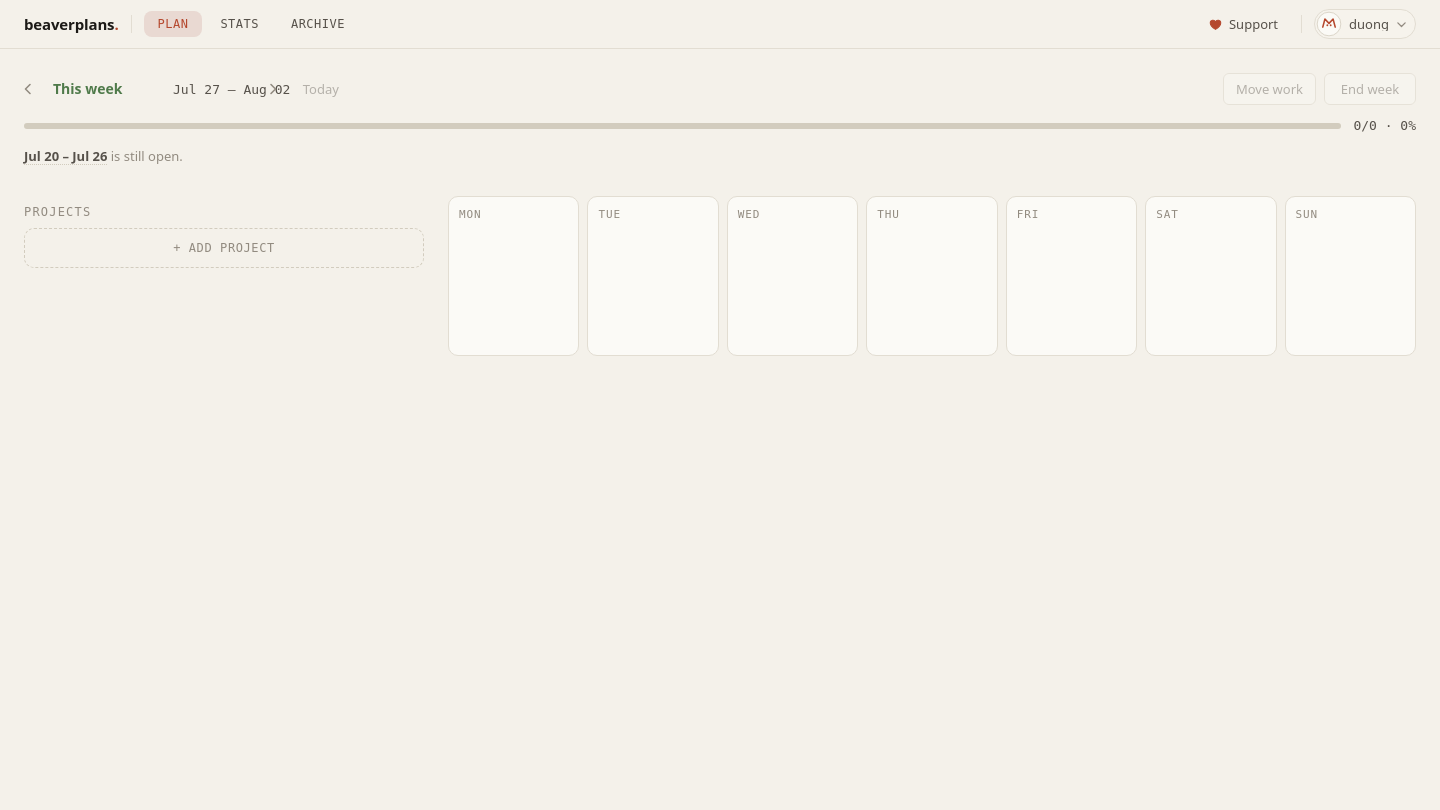
Test case: App under the weeks model › signed in › Account settings hands off to Change email, which says it is not finished
Click the button with aria-label "Account: duong" at (1365, 24), box [1314,9,1416,39]
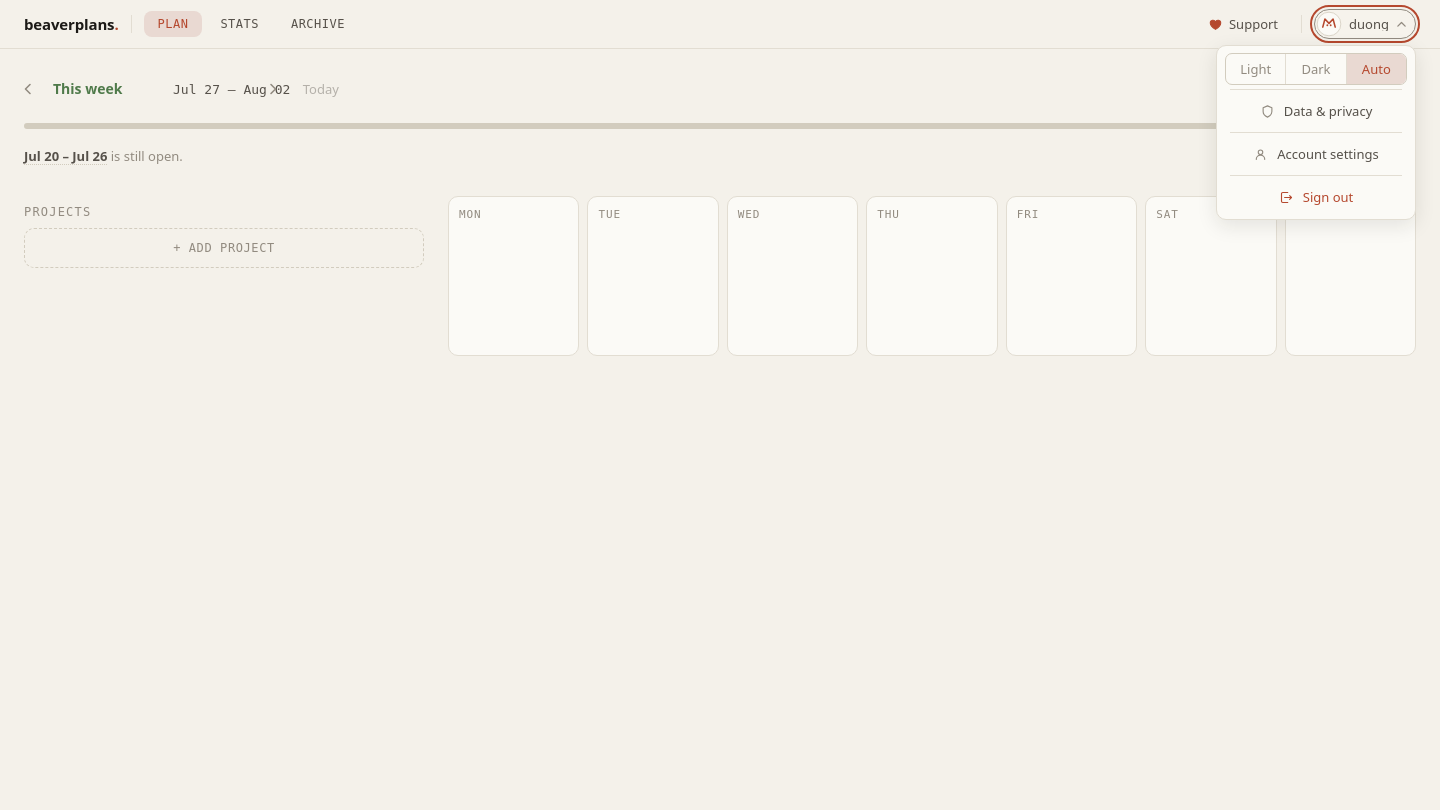
Click the menu item "Account settings" at (1316, 154), box [1222,137,1410,171]
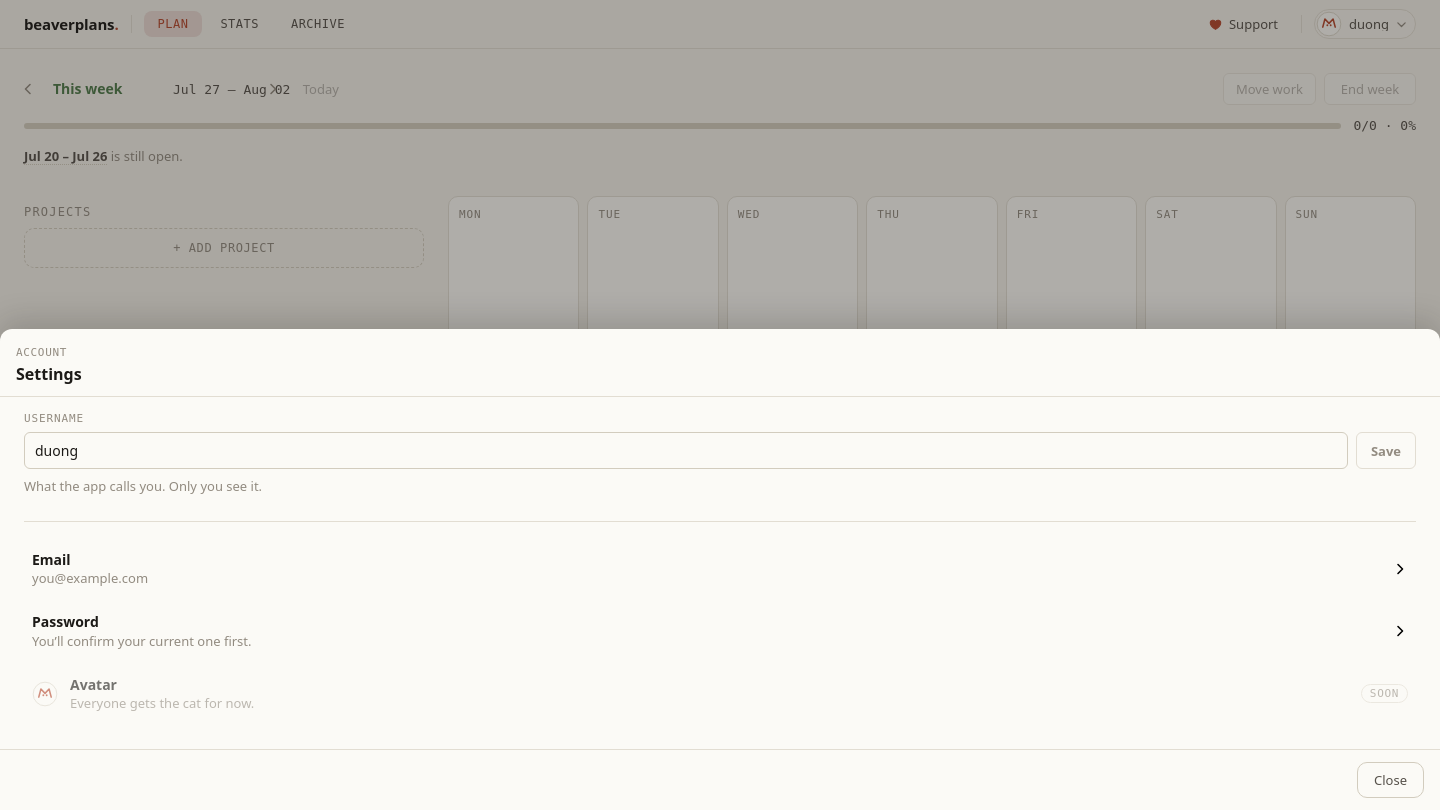
Click the button with aria-label "Change email" at (51, 559), box [24,538,1416,600]
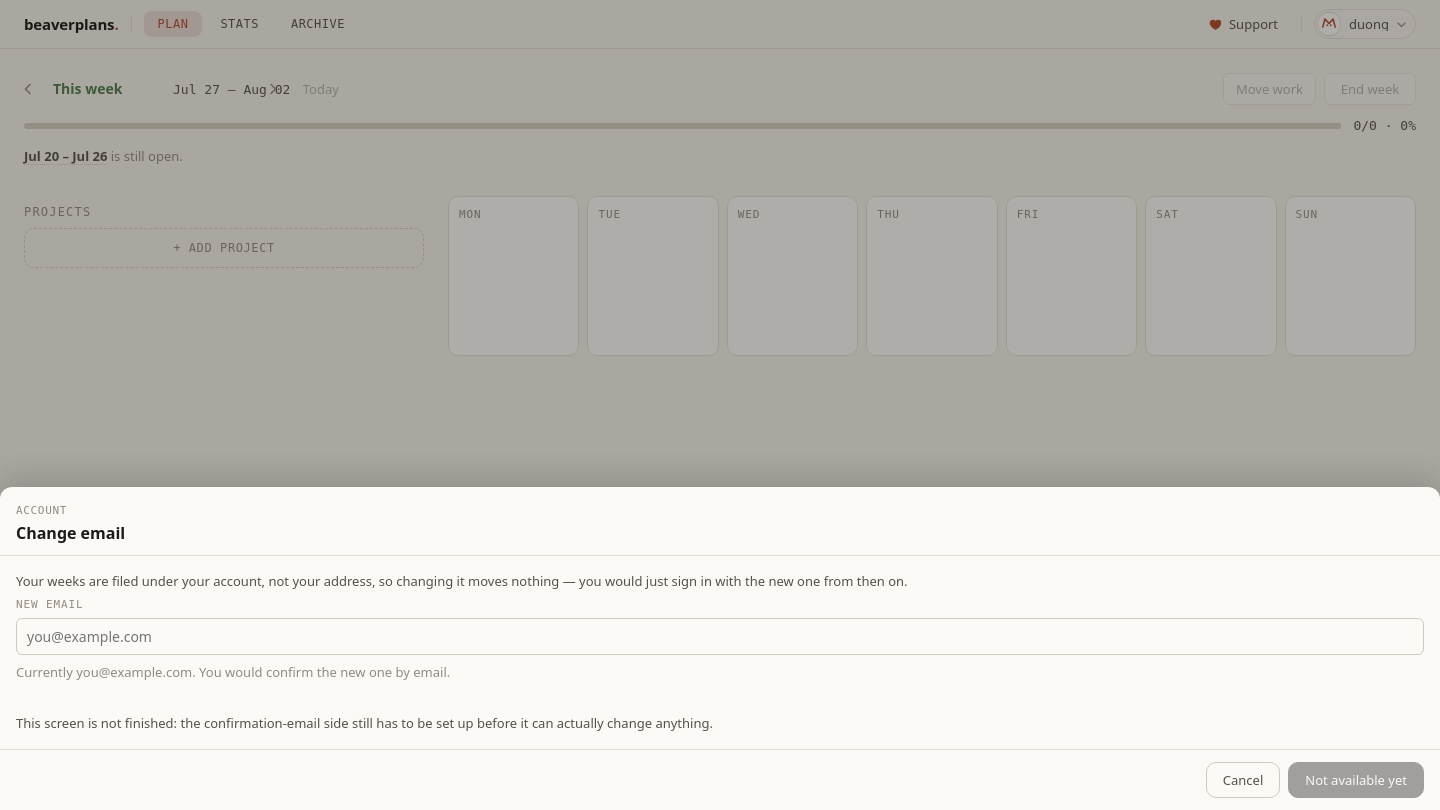
Expected: the heading "Change email" is shown, [16,522,125,544]
Expected: the text "Currently you@example.com. You would confirm the new one by email." is shown, [16,663,450,681]
Expected: the button "Not available yet" is disabled, [1288,762,1424,798]
